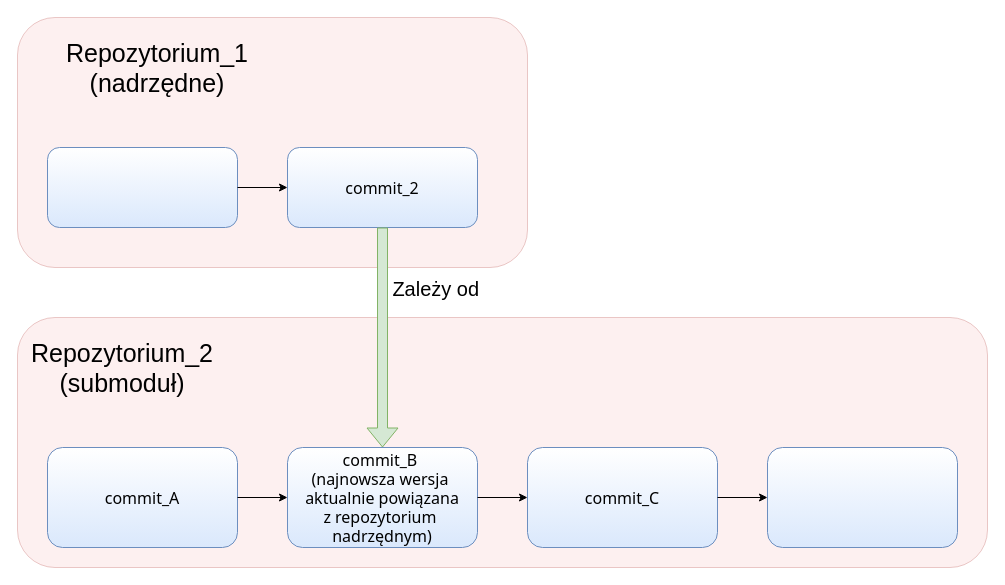
The diagram is 1005 pixels wide and 585 high, and some of its shapes have lost their labels. The shapes that lost their labels are listed below. From the top down, each one's centre as x and y in pixels, then its label:
point 142,187: commit_1
point 862,497: commit_D (najnowsza wersja modułu na rewizji zdalnej)
